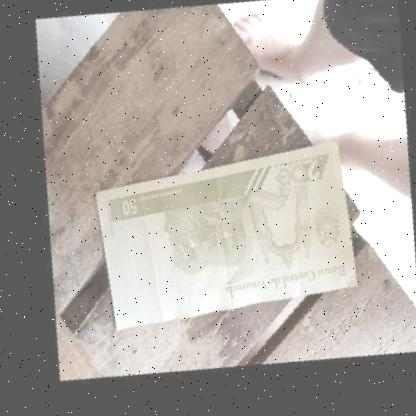fifty-back-vef: (59, 98, 384, 380)
